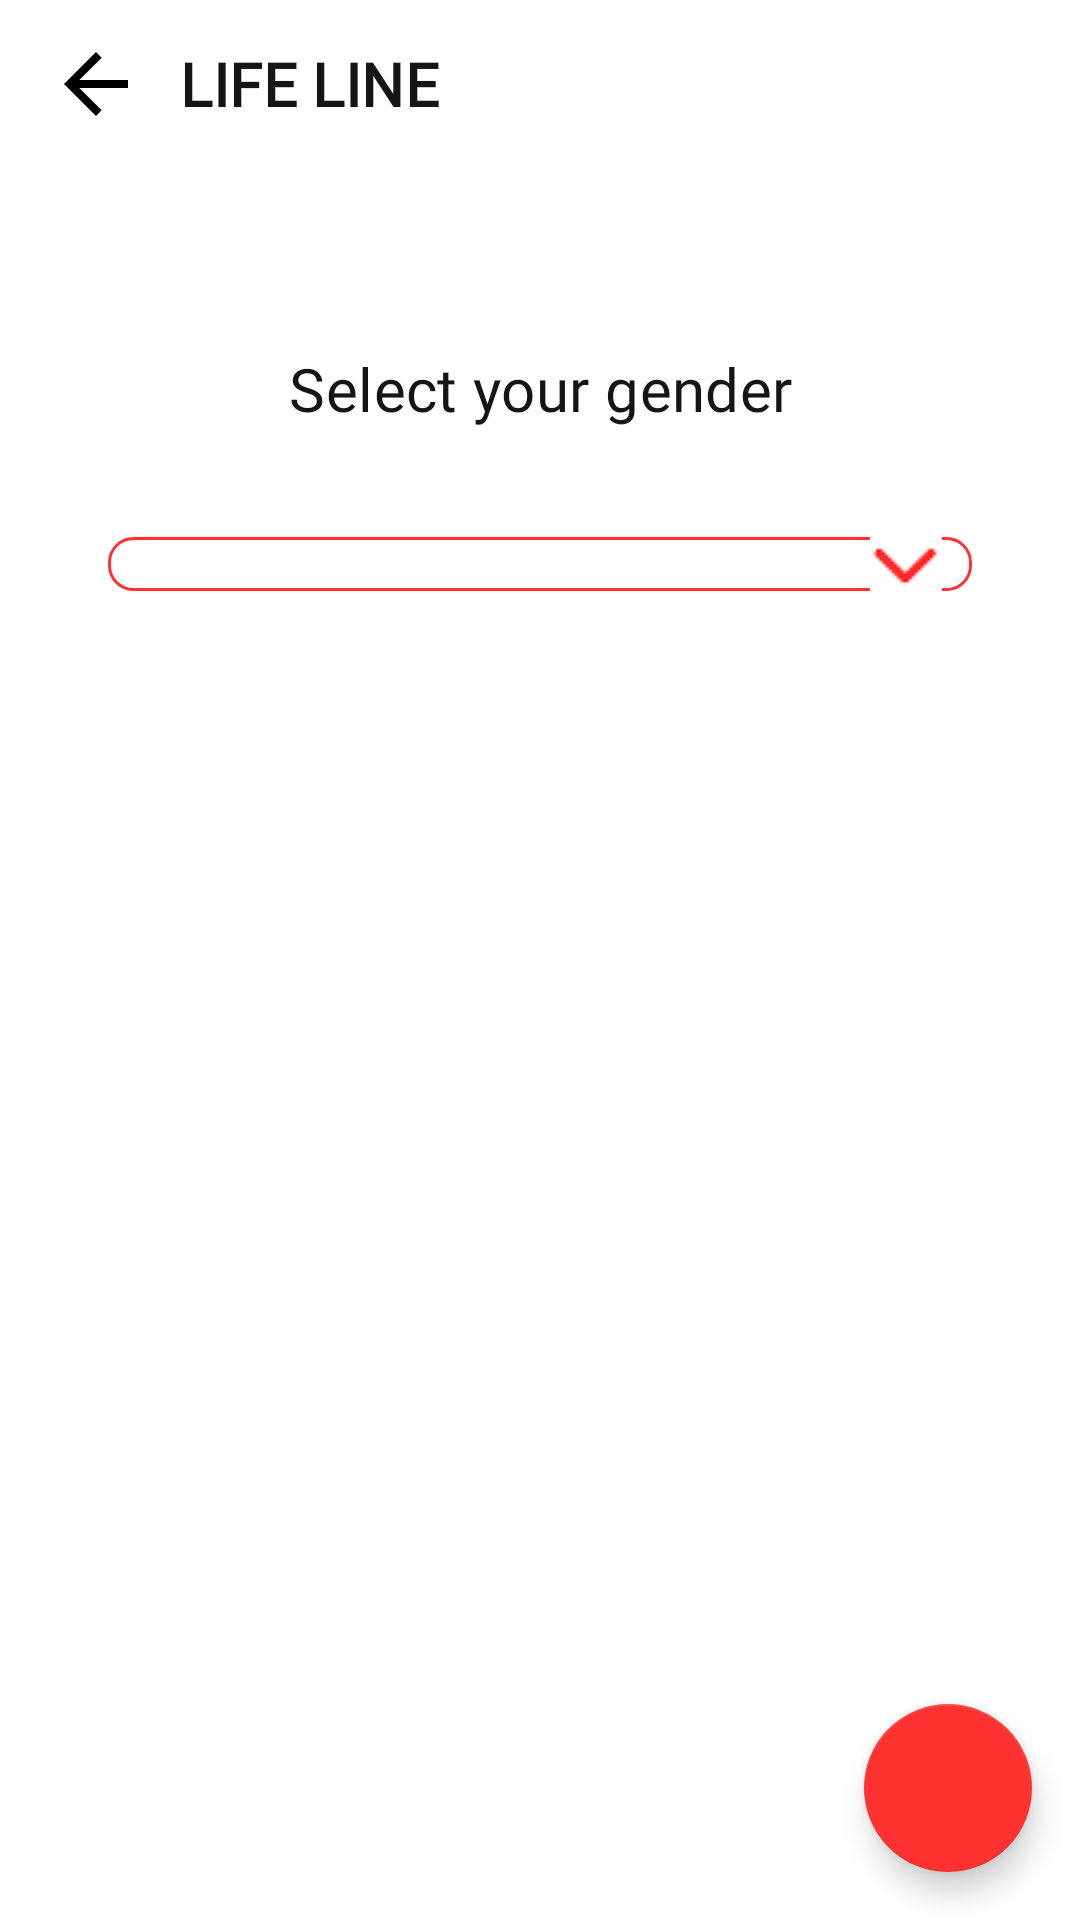

Screen size 1080x1920. Icon name, then its center in pixels as point (x, y):
arrow back: point (96, 84)
